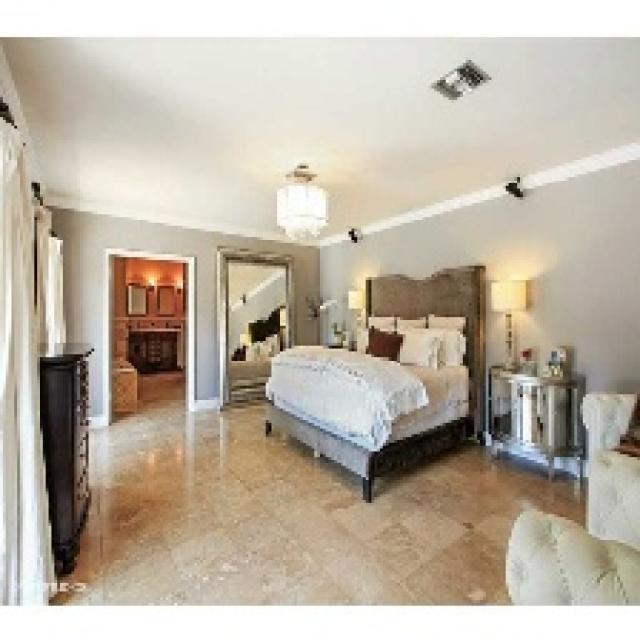Bed: (263, 263, 486, 500)
